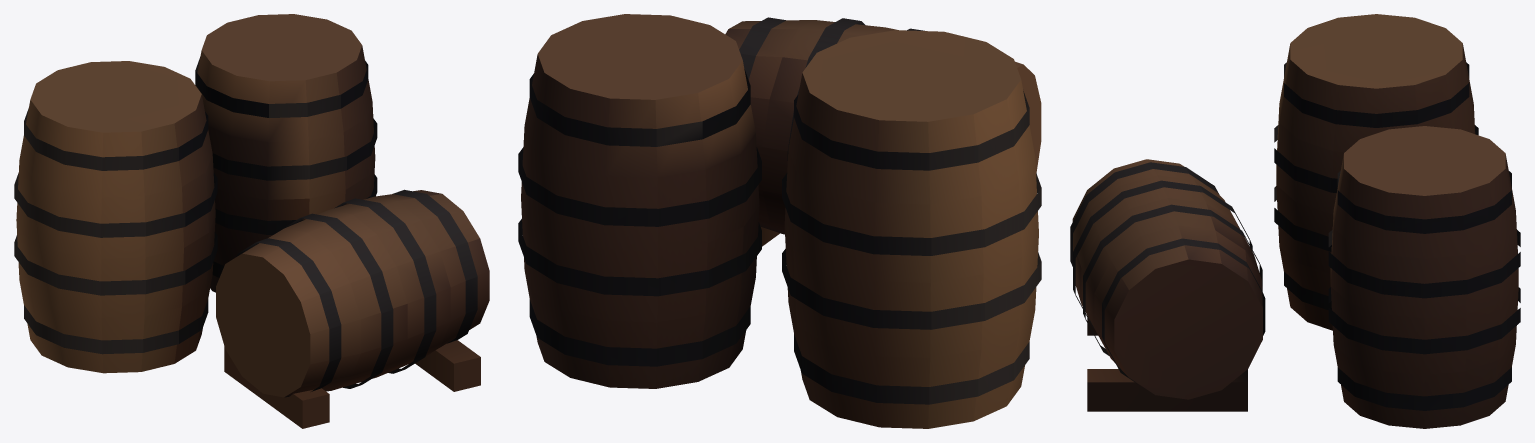
The model's file is barriles.glb.
3 views of the same model, side by side, from view 1: azimuth 30°, elevation 25°; view 2: azimuth 150°, elevation 25°; view 3: azimuth 270°, elevation 25° (orthographic). The views are drawn at different scales.
Visible parts, largest first — view 1: barriles_piezas; view 2: barriles_piezas; view 3: barriles_piezas.
Part boxes in pixels (x1=…): barriles_piezas: x1=14, y1=14, x2=489, y2=428; barriles_piezas: x1=518, y1=14, x2=1041, y2=428; barriles_piezas: x1=1070, y1=14, x2=1520, y2=428.
Bounding box in the file's own units: 1.33 × 0.85 × 1.4.
